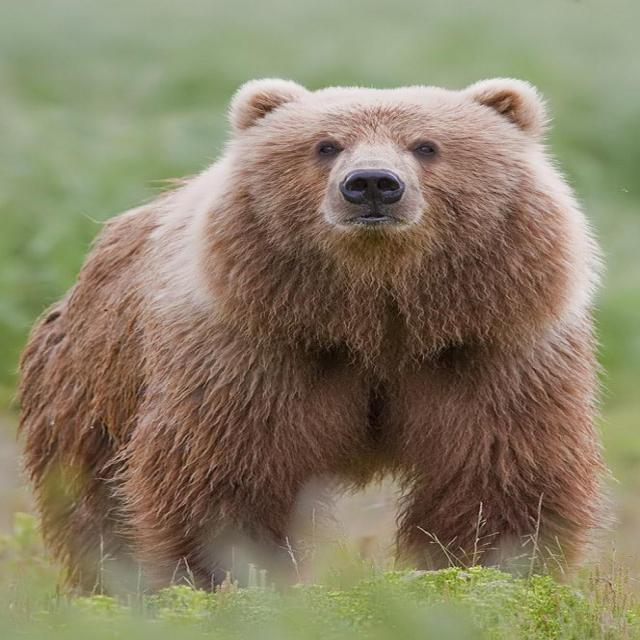Bear: (14, 77, 619, 609)
